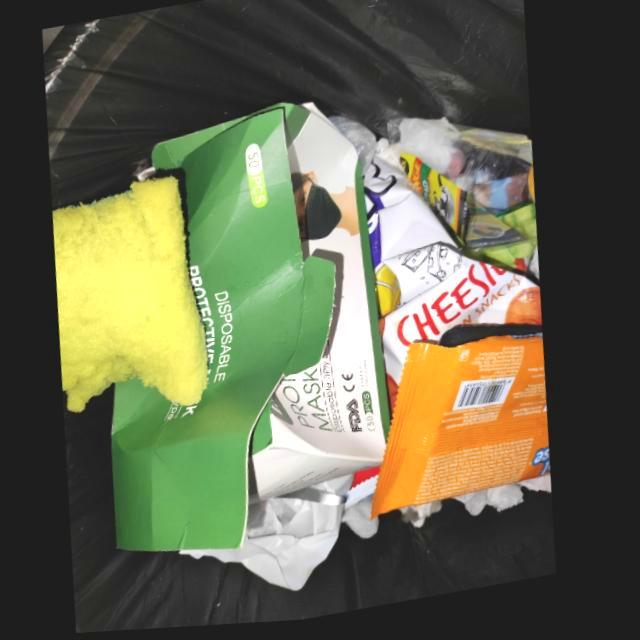cardboard: (117, 106, 394, 556)
food_wrapper: (366, 146, 548, 395), (378, 331, 558, 525), (457, 202, 545, 294)
paper: (187, 478, 387, 594), (464, 481, 560, 526)
plastic_sachet: (402, 158, 473, 253)
